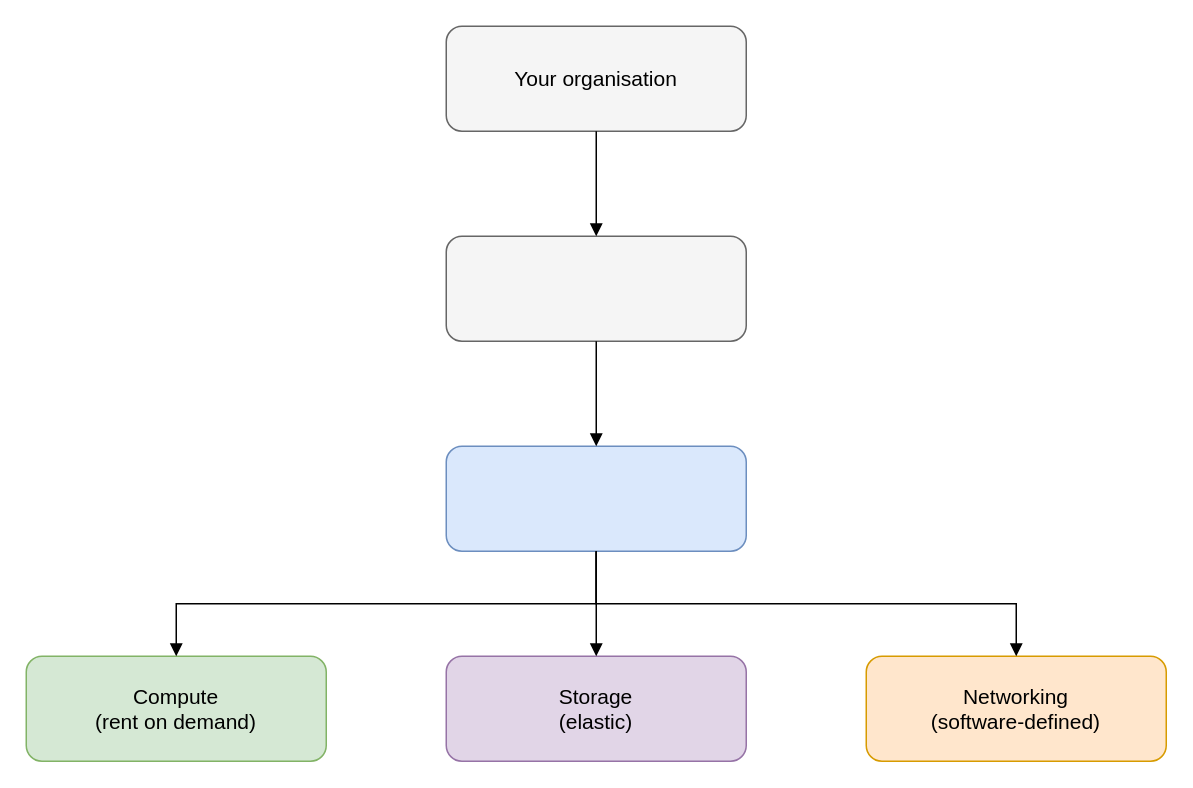
Some shapes in this 1193 by 788 pixel diagram are drawn without their labels. The centre of each missing label's shape, as x and y in pixels:
Cloud provider (AWS) pay-as-you-go: [595,498]
Internet: [595,288]
